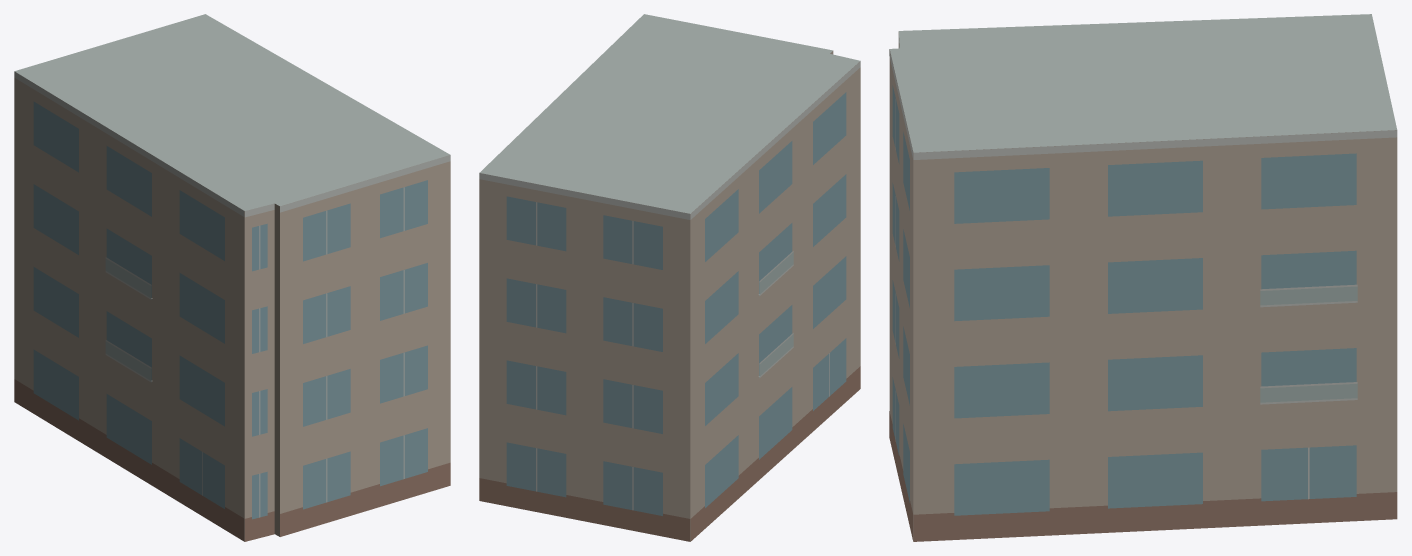
File: survey-upis-32921956.glb
3 renders of one model, left to right at view 1: azimuth 30°, elevation 25°; view 2: azimuth 150°, elevation 25°; view 3: azimuth 270°, elevation 25°, orthographic. The views are drawn at different scales.
Parts seen in each view (by area): view 1: survey-upis-32921956.tmp; view 2: survey-upis-32921956.tmp; view 3: survey-upis-32921956.tmp.
Part boxes in pixels (x1,y1,x2,y2): survey-upis-32921956.tmp: (14,14,450,541); survey-upis-32921956.tmp: (479,14,860,541); survey-upis-32921956.tmp: (889,14,1397,541).
Bounding box in the file's own units: 9.79 × 12.8 × 15.14.
